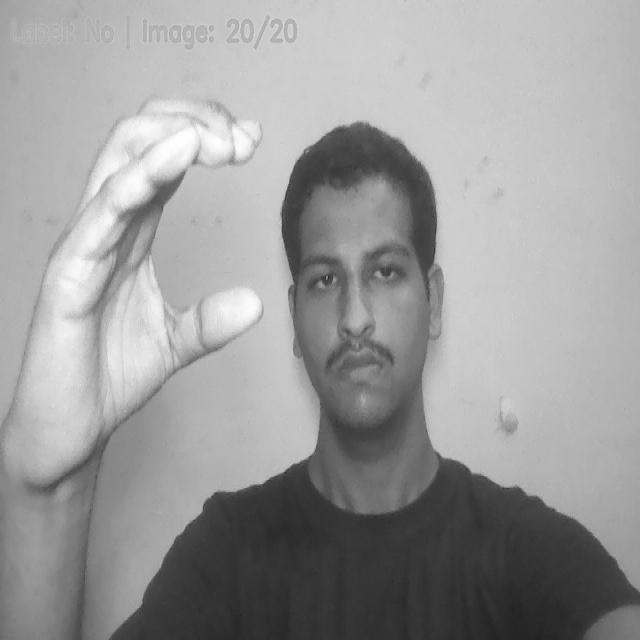No: (10, 107, 267, 461)
